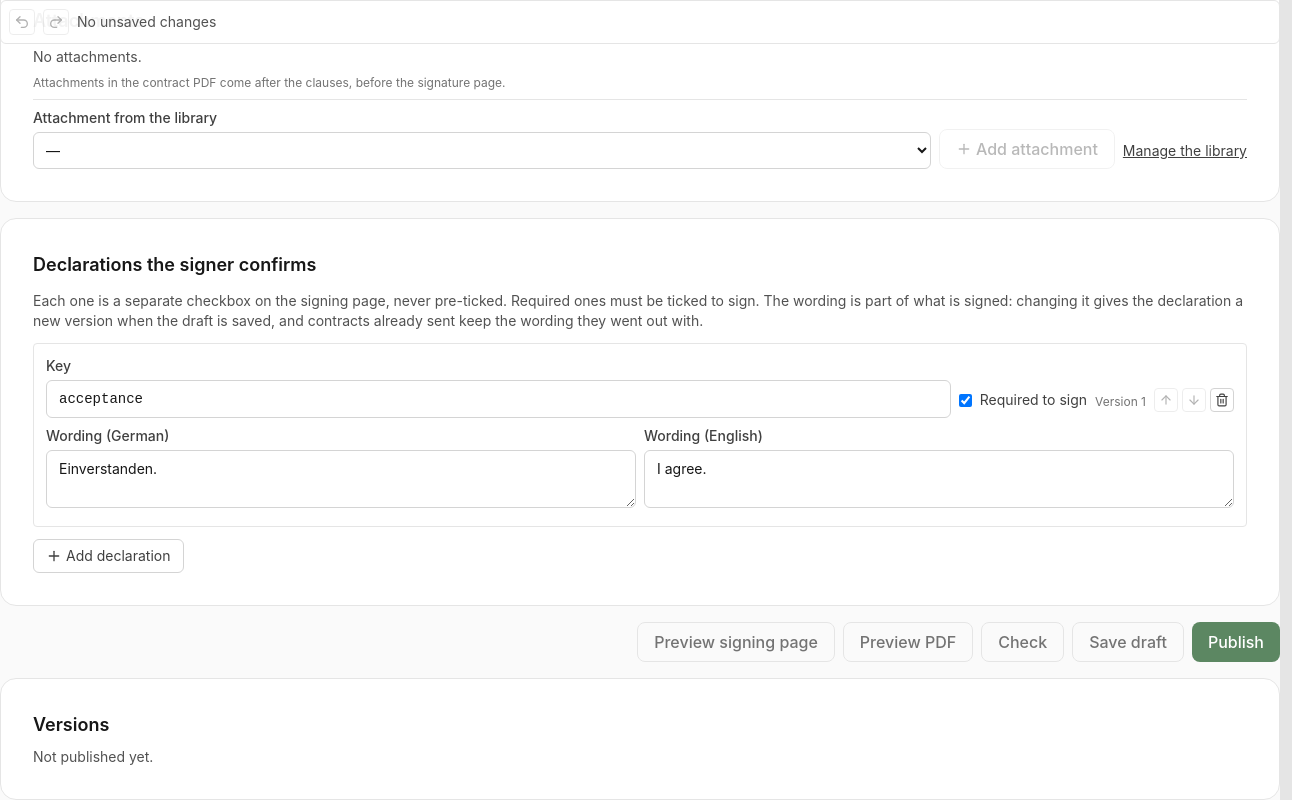
Test: declarations in the editor state (#1445 × #1446) › Undo takes back a declaration change, keystrokes in one field as one step
(page scrolled)
Click the checkbox labelled "Required to sign" at (965, 400), box [959, 394, 972, 406]
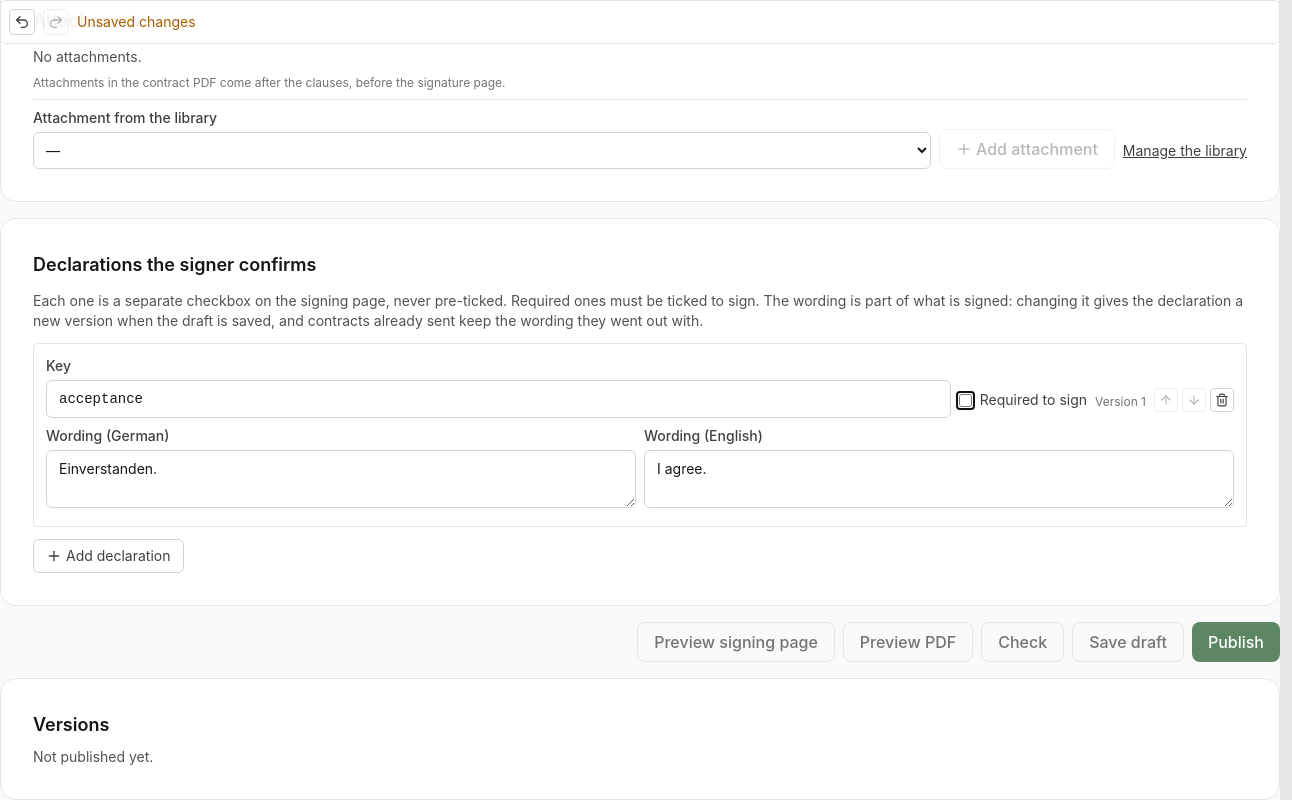
Type " Yes." into the text box labelled "Wording (English)" at (939, 479), box [644, 450, 1234, 508]
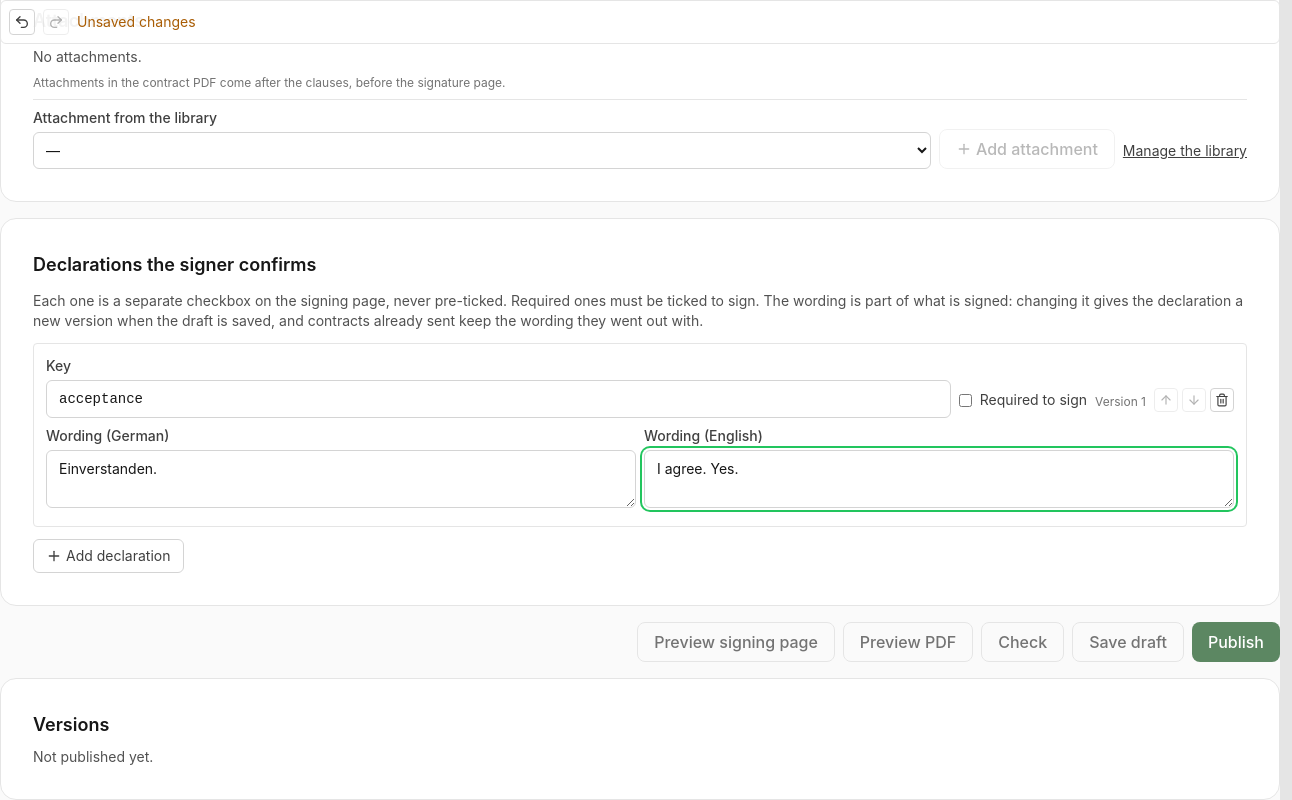
Check: the text box labelled "Wording (English)" holds "I agree. Yes.", box [644, 450, 1234, 508]
Click the button named "Undo" at (22, 22), box [9, 9, 35, 35]
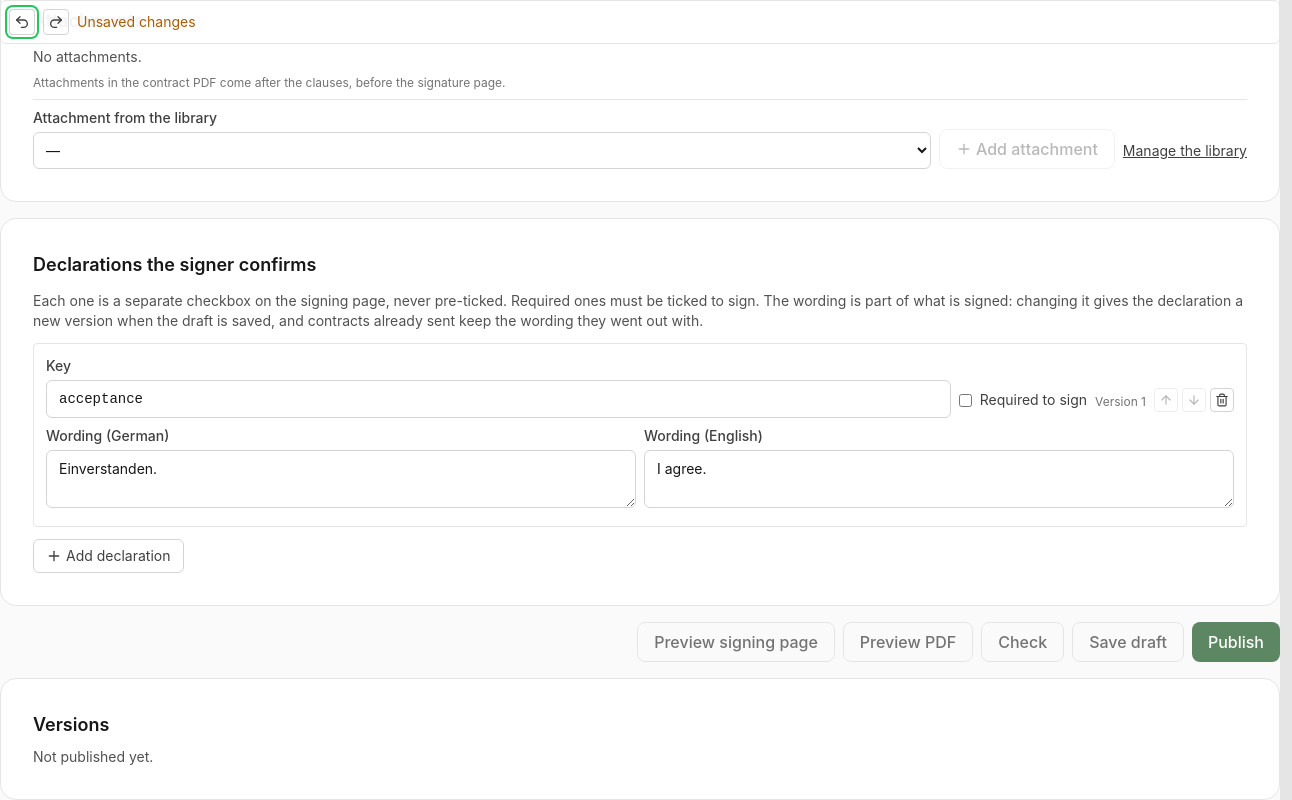
Check: the checkbox labelled "Required to sign" is not checked, box [959, 394, 972, 406]
Check: the text box labelled "Wording (English)" holds "I agree.", box [644, 450, 1234, 508]
Click the button named "Undo" at (22, 22), box [9, 9, 35, 35]
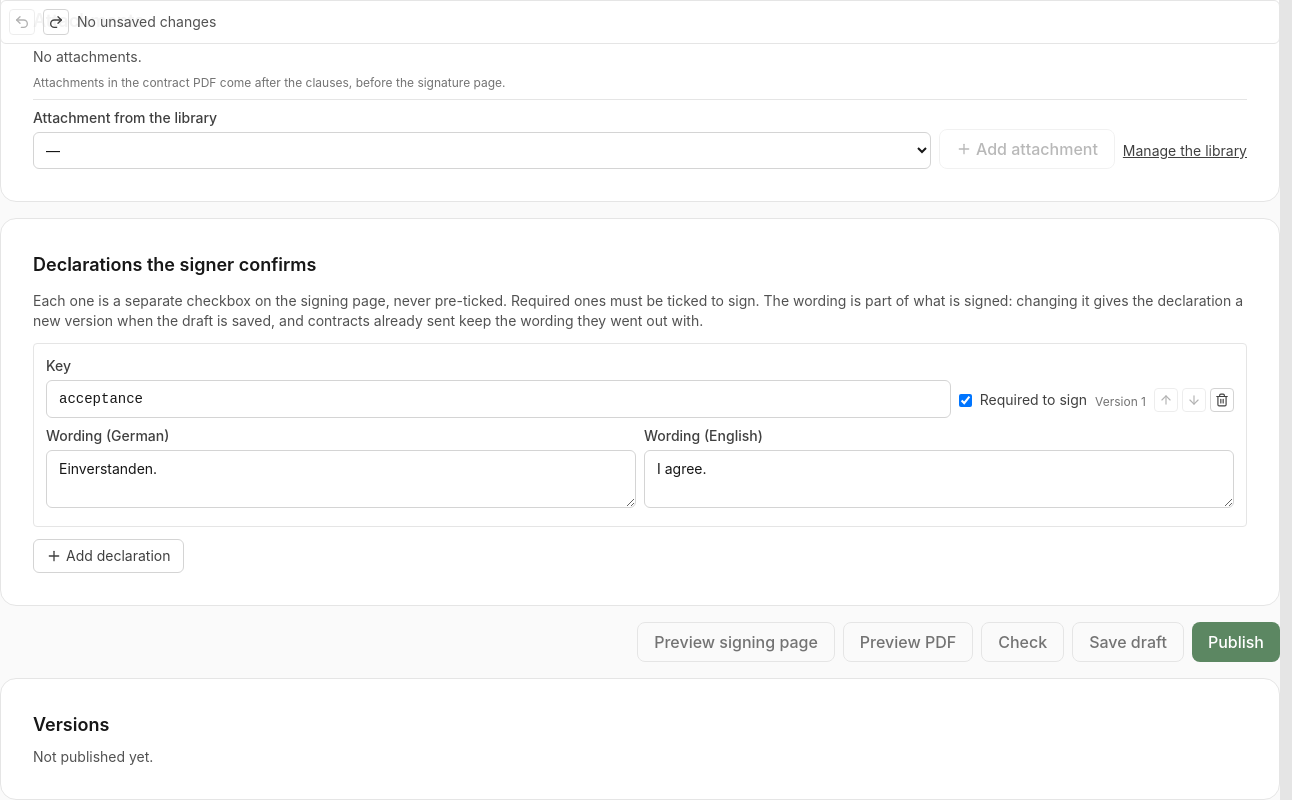
Check: the checkbox labelled "Required to sign" is checked, box [959, 394, 972, 406]
Check: the message with test id "autosave-status" reads "No unsaved changes", box [77, 13, 216, 30]
